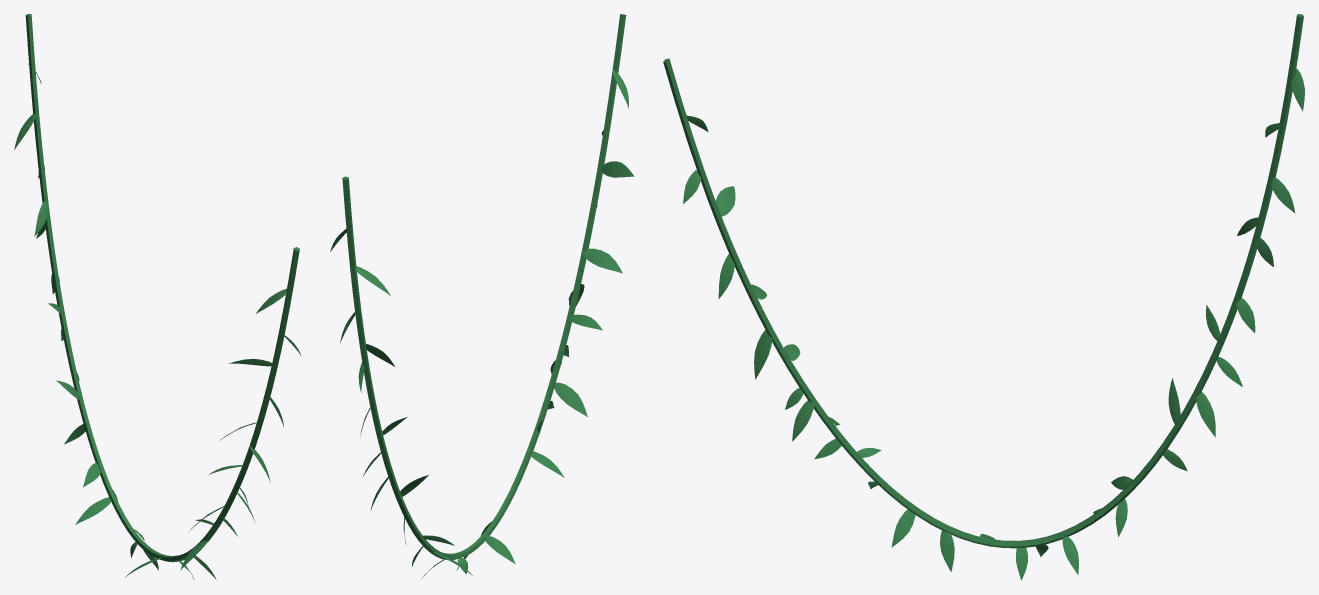
Rendered from vine_hori_D_scanden.fbx.
3 renders of one model, left to right at view 1: azimuth 30°, elevation 25°; view 2: azimuth 150°, elevation 25°; view 3: azimuth 270°, elevation 25°, orthographic. The views are drawn at different scales.
Parts seen in each view (by area): view 1: vine_hori_D_scanden_root; view 2: vine_hori_D_scanden_root, vine_scanden_A_leaf_A211, vine_scanden_A_leaf_A, vine_scanden_A_leaf_A209; view 3: vine_hori_D_scanden_root.
Part boxes in pixels (x1,y1,x2,y2): vine_hori_D_scanden_root: (25, 14, 299, 562); vine_hori_D_scanden_root: (342, 14, 626, 559); vine_scanden_A_leaf_A211: (583, 248, 622, 273); vine_scanden_A_leaf_A: (554, 382, 587, 416); vine_scanden_A_leaf_A209: (601, 161, 634, 177); vine_hori_D_scanden_root: (663, 14, 1303, 548).
Bounding box in the file's own units: 35.66 × 261 × 271.
